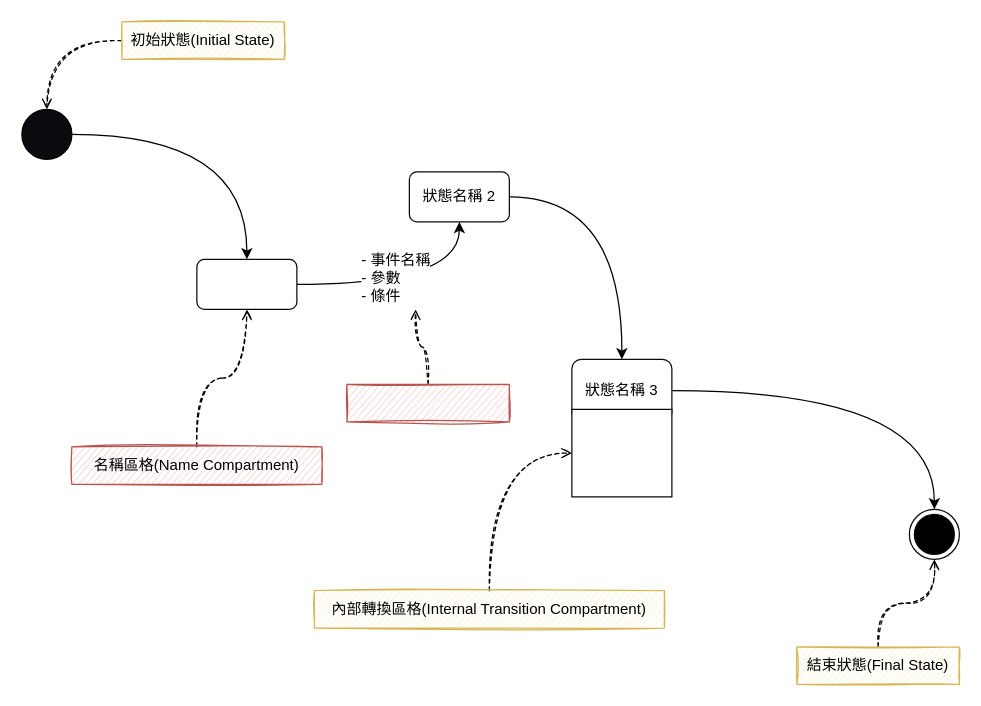
This 981x706 diagram has some shape labels left out. The shapes that lost their labels are listed below. From the top down, each one's centre as x and y in pixels, then its label:
At [246,283]: "狀態名稱 1".
At [427,402]: "轉換(Transition)".
At [621,452]: "- 進入: XXX - 離開: XXX - 進行: XXX - 其他: ...".
